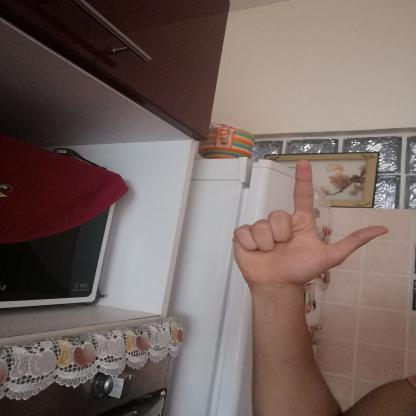LAAM: (222, 154, 396, 294)
